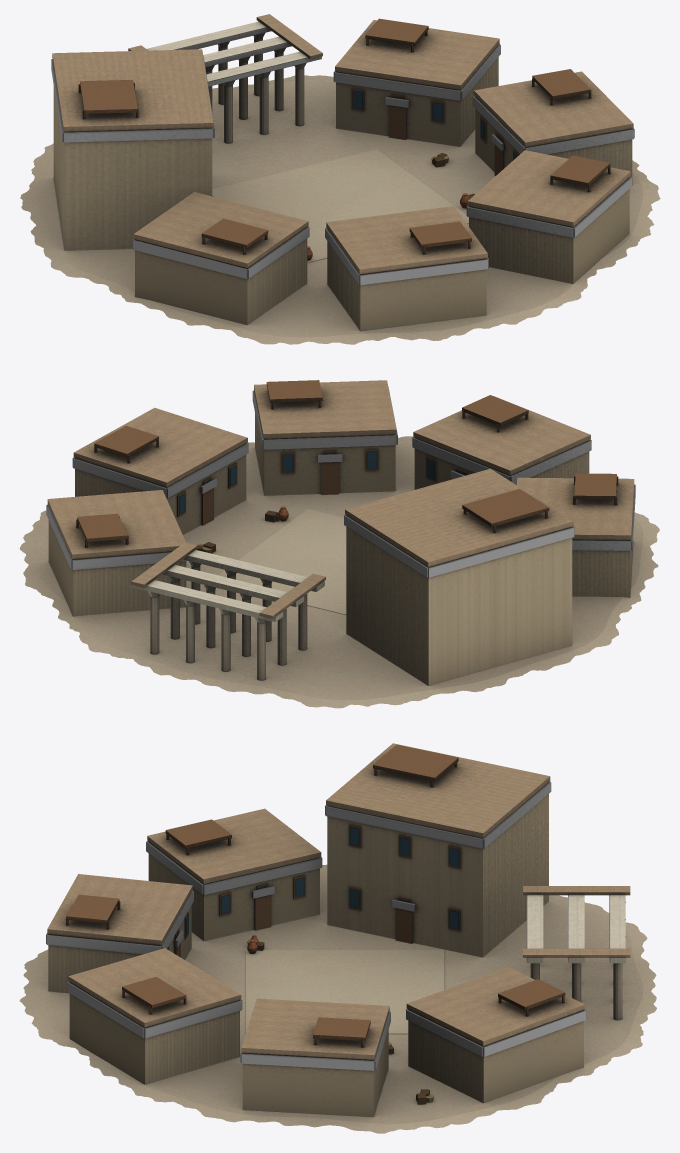
File: classical-town-small-a-nile.glb
3 renders of one model, top to bottom at view 1: azimuth 30°, elevation 25°; view 2: azimuth 150°, elevation 25°; view 3: azimuth 270°, elevation 25°, orthographic.
Visible parts, largest first — view 1: LOD0; view 2: LOD0; view 3: LOD0.
Boxes of the visible parts, bbox=[...] form: LOD0: bbox=[20, 14, 660, 344]; LOD0: bbox=[19, 380, 659, 708]; LOD0: bbox=[19, 743, 656, 1133].
Size of what is drawn, in the model's own units: 4.01 by 0.9282 by 3.94.
3 materials, 3 textured.
